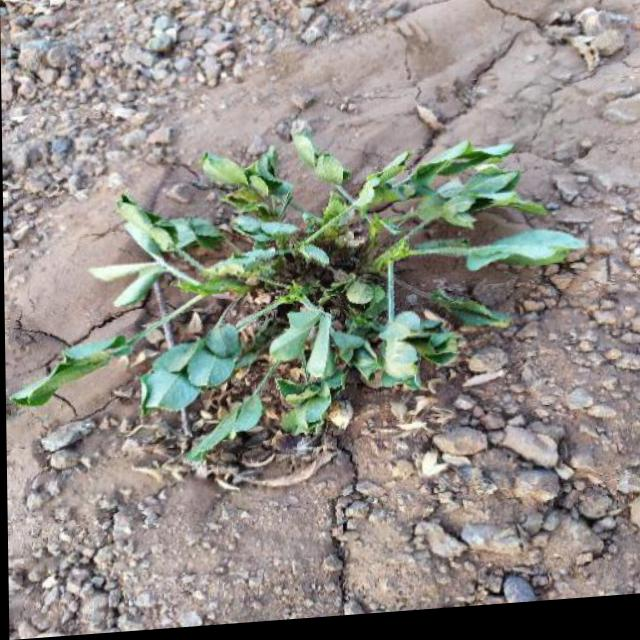weed: (98, 145, 562, 471)
